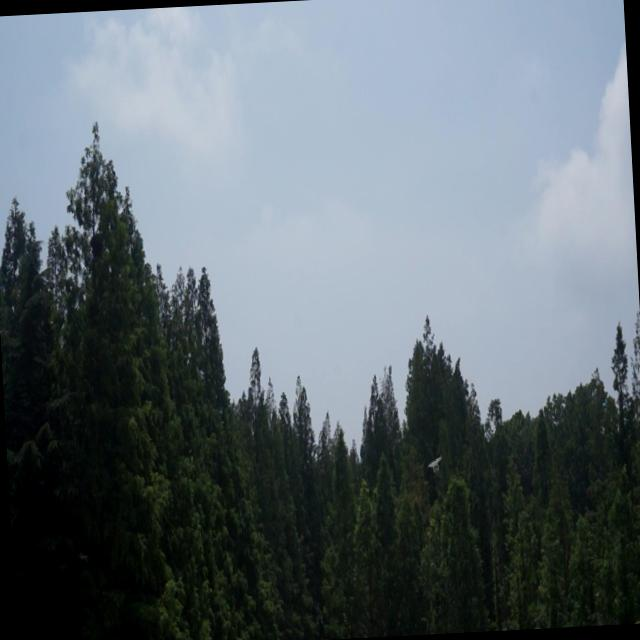drone: (427, 453, 444, 477)
